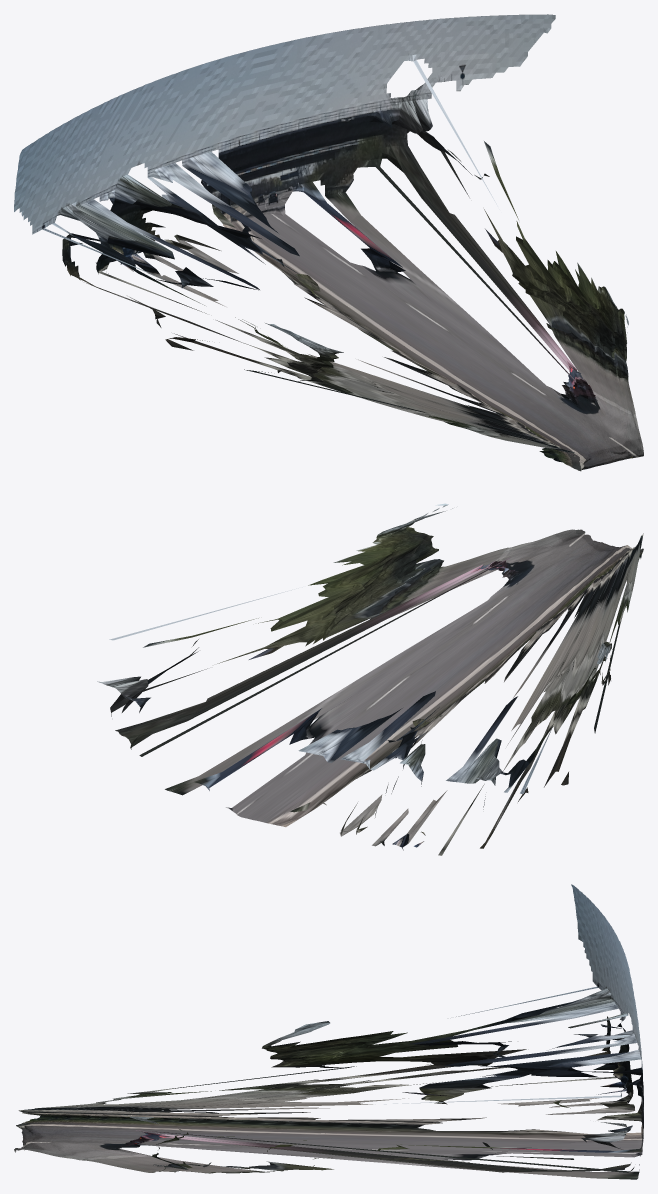
The picture shows the model from 3 angles, top to bottom: view 1: azimuth 30°, elevation 25°; view 2: azimuth 150°, elevation 25°; view 3: azimuth 270°, elevation 25°; orthographic projection. The views are drawn at different scales.
Visible parts, largest first — view 1: defaultobject; view 2: defaultobject; view 3: defaultobject.
Boxes of the visible parts, box(x1,y1,x2,y2) form: defaultobject: box(14, 14, 643, 471); defaultobject: box(97, 503, 643, 855); defaultobject: box(14, 884, 643, 1179).
Size of the model in its own units: 39.48 by 12.65 by 44.73.
Materials: 1 (1 with a texture image).
